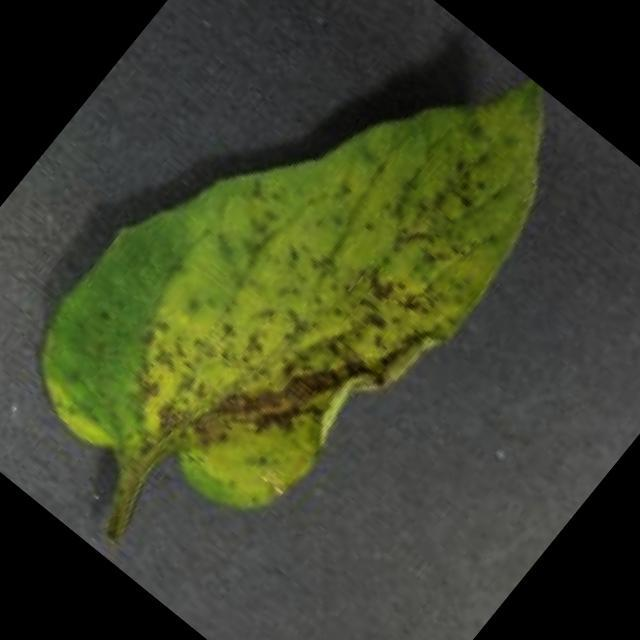Tomato bacterial spot leaf: (0, 0, 612, 586)
